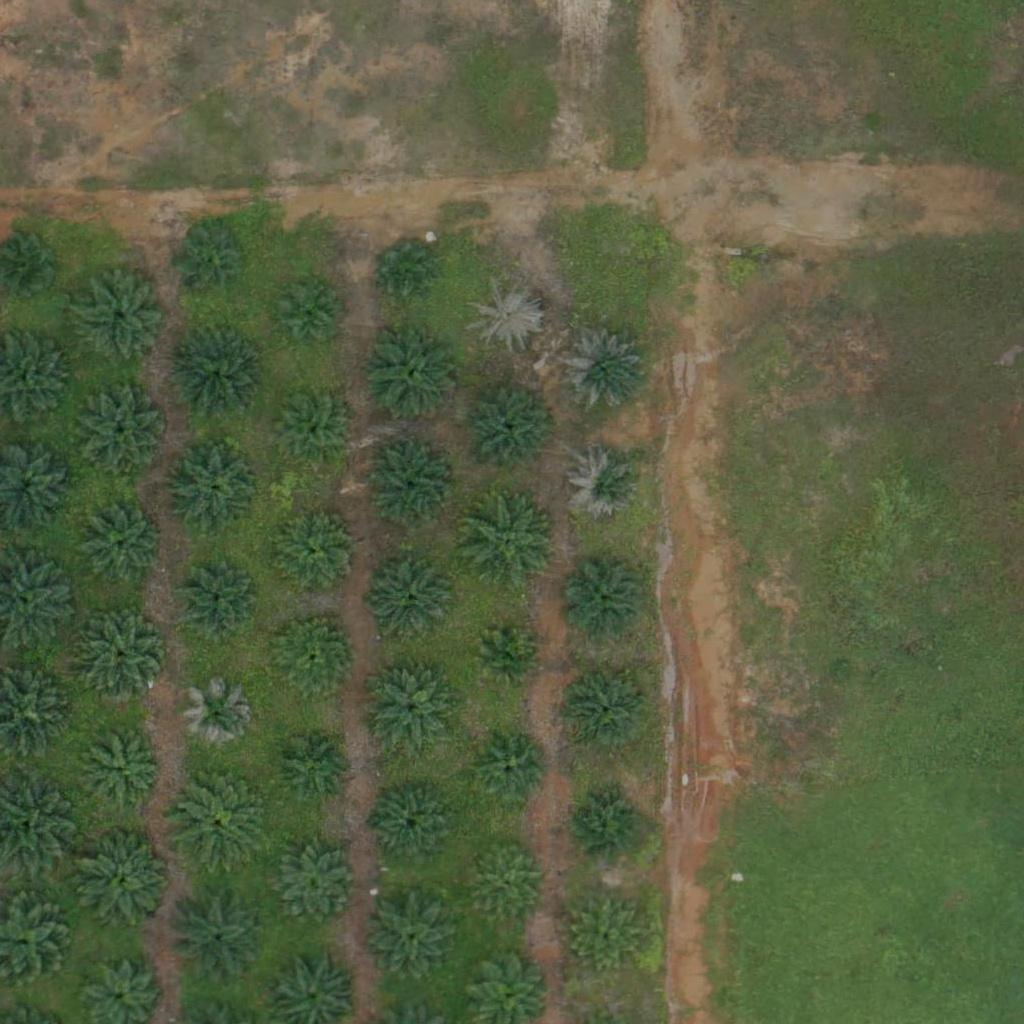Kelapa_Sawit: (71, 267, 171, 368), (173, 770, 273, 871), (261, 835, 361, 936), (167, 885, 267, 986), (363, 325, 463, 425), (462, 379, 562, 479), (462, 493, 562, 593), (75, 829, 175, 929), (79, 391, 167, 480), (269, 615, 357, 704), (371, 782, 459, 871), (270, 722, 358, 810), (173, 334, 261, 422), (170, 447, 258, 535), (272, 513, 360, 601), (558, 327, 646, 415), (560, 557, 648, 645), (561, 668, 649, 756), (366, 896, 454, 984), (76, 505, 163, 593), (79, 615, 166, 703), (368, 442, 455, 530), (367, 558, 454, 646), (368, 668, 455, 756), (85, 732, 160, 808), (469, 278, 544, 354), (570, 448, 645, 524), (275, 397, 350, 472), (475, 733, 550, 808), (565, 896, 640, 971), (572, 788, 647, 863), (179, 565, 254, 640), (181, 679, 256, 754), (467, 844, 542, 919), (180, 230, 243, 293), (277, 277, 340, 340), (477, 628, 540, 691), (373, 238, 435, 300)
